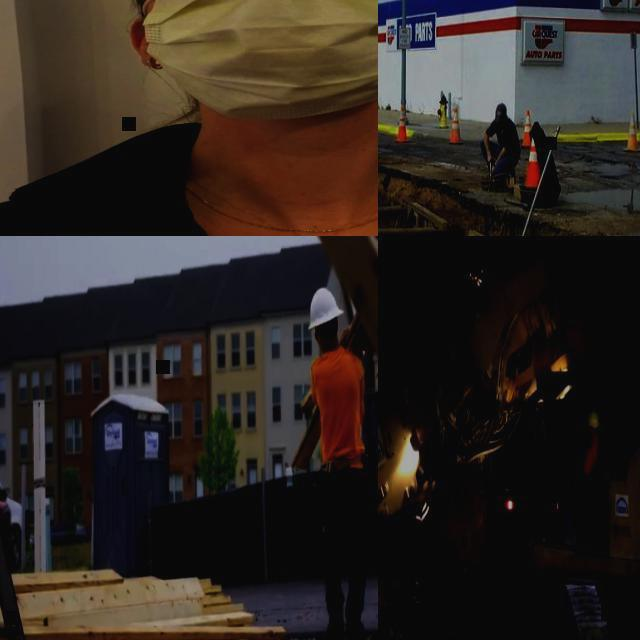helmet: (308, 286, 344, 330), (588, 410, 600, 428)
machinery: (378, 236, 640, 640)
mask: (121, 0, 378, 119)
no_helmet: (496, 102, 506, 115)
no_mask: (590, 430, 594, 439)
no_vest: (0, 154, 378, 236), (312, 350, 364, 468), (494, 122, 514, 156)
person: (0, 0, 378, 236), (308, 285, 368, 640), (480, 100, 520, 178)
safety_cone: (520, 137, 544, 203), (449, 104, 464, 146), (624, 113, 640, 152), (394, 105, 410, 143), (520, 110, 532, 148)
vehicle: (0, 460, 23, 562)
vest: (584, 436, 600, 474)
